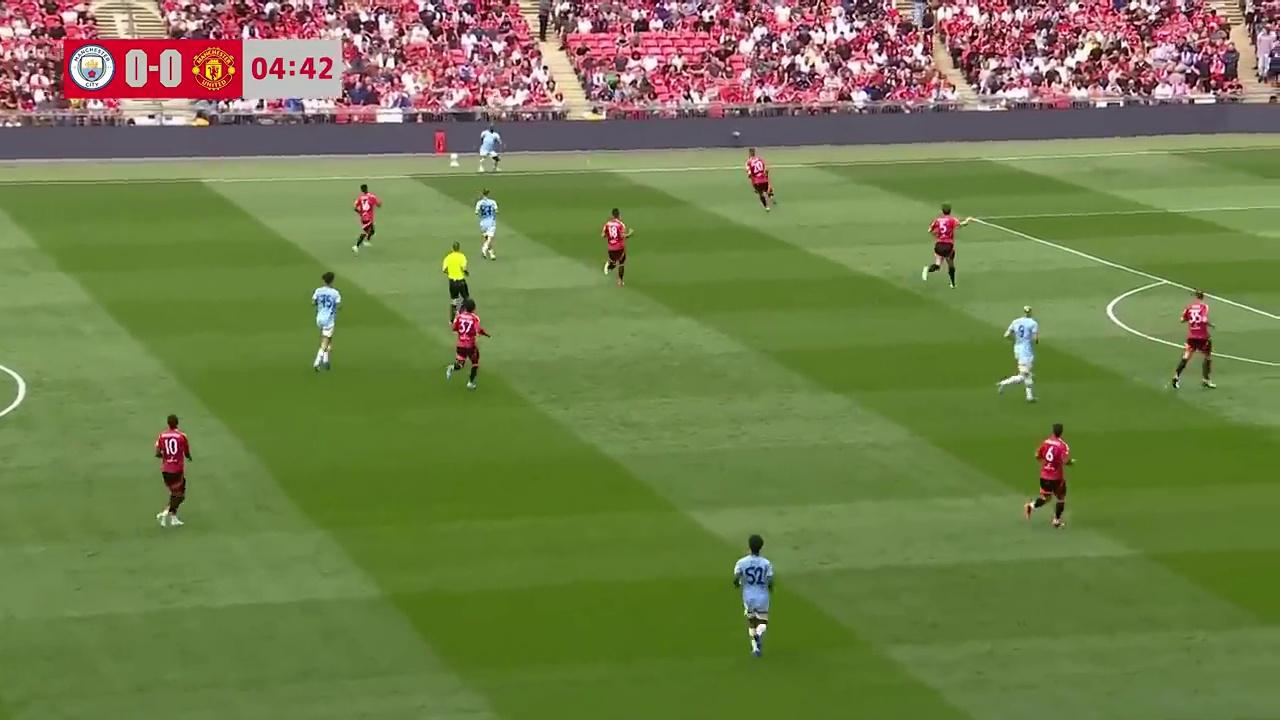player: (1021, 422, 1076, 529), (733, 535, 775, 657), (1168, 291, 1216, 390), (154, 414, 192, 528), (996, 306, 1039, 401), (445, 299, 489, 389), (921, 205, 963, 288), (311, 271, 341, 372), (601, 208, 631, 286), (353, 184, 381, 251), (745, 150, 776, 210), (474, 188, 498, 259), (477, 123, 503, 173)
referee: (441, 242, 472, 313)
